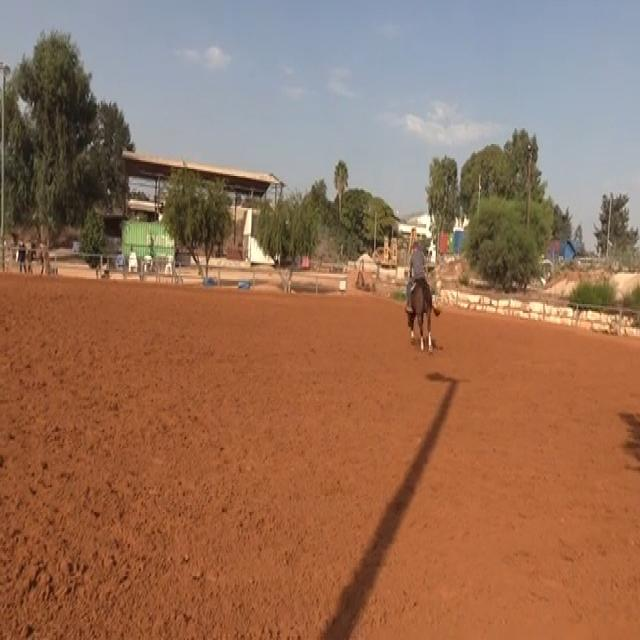horse: (404, 272, 435, 354)
